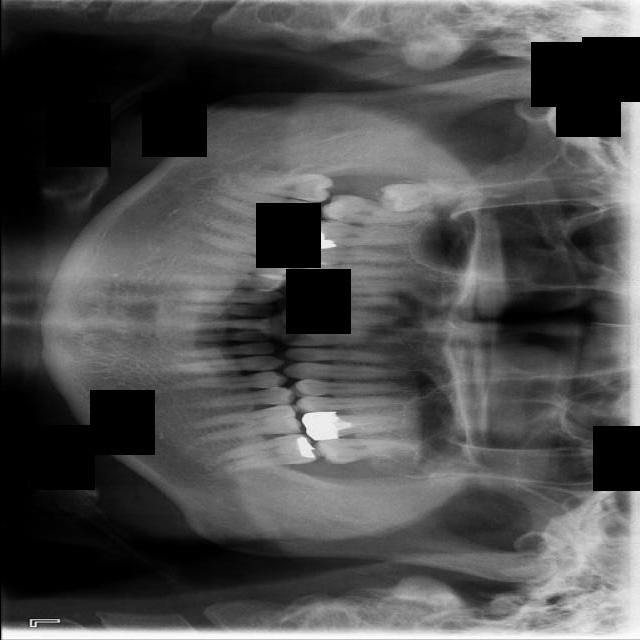3M ESPE Implant: (373, 179, 459, 213)
52: (270, 194, 324, 241), (273, 427, 321, 470), (307, 220, 352, 249), (301, 411, 341, 442)
73: (43, 590, 56, 596)
BioHorizons Implant: (312, 435, 419, 466)
Blue Sky Bio Implant: (217, 431, 321, 472)
Caries: (319, 192, 437, 231)
Implant: (210, 185, 325, 239)
Keystone Dental Implant: (231, 166, 335, 204)
